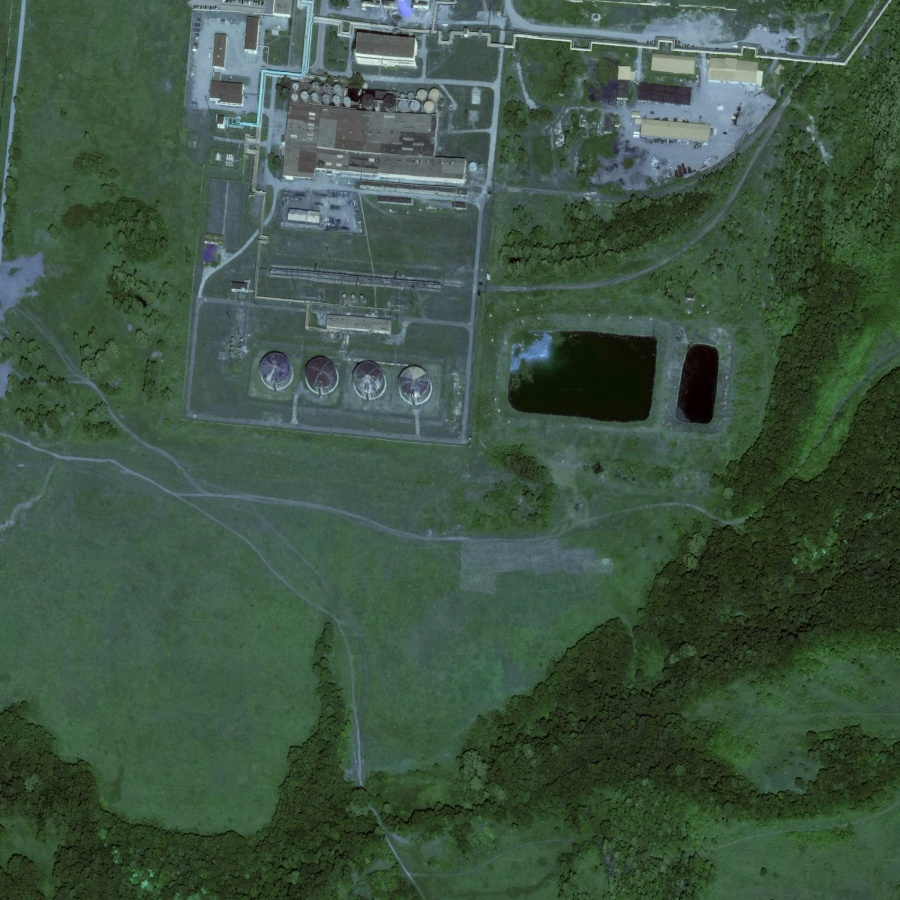PowerPlant: (253, 300, 464, 466), (498, 317, 732, 444)
